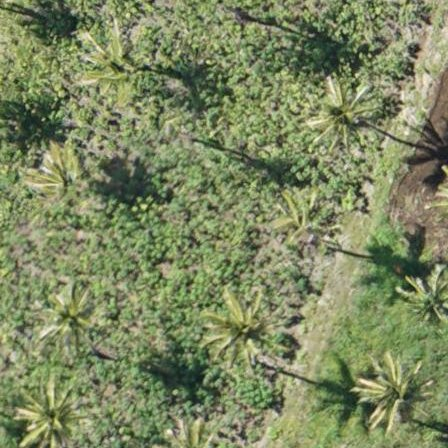palm_tree: (24, 141, 97, 218), (354, 356, 430, 429), (308, 84, 379, 144), (202, 296, 270, 358), (14, 386, 85, 443), (77, 35, 136, 97), (270, 191, 333, 249), (37, 283, 96, 343), (398, 265, 448, 325)
